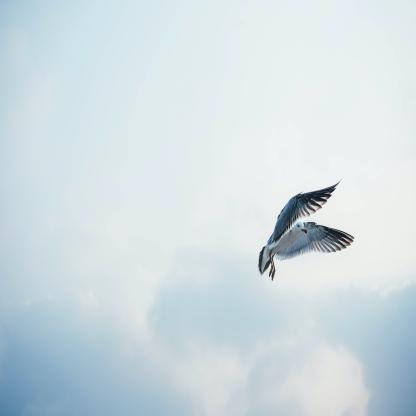bird: (259, 182, 353, 282)
